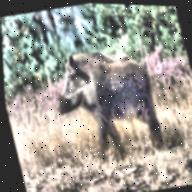boar: (34, 22, 176, 167)
